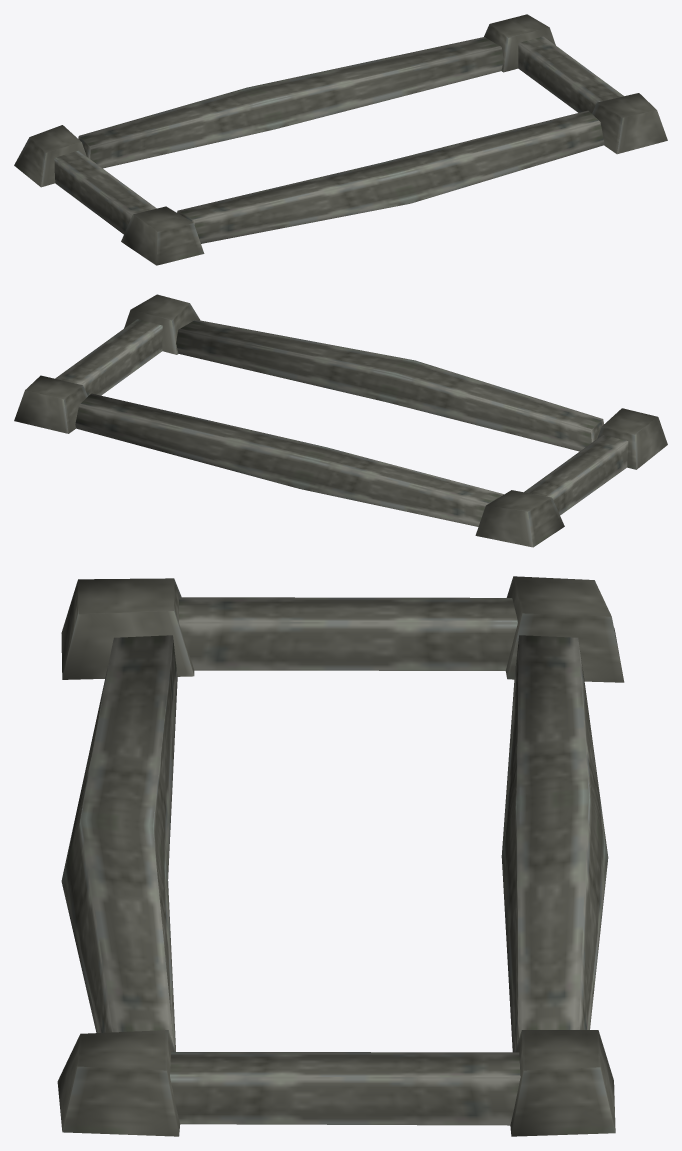
The model's file is duskwoodgraveframe.glb.
3 renders of one model, top to bottom at view 1: azimuth 30°, elevation 25°; view 2: azimuth 150°, elevation 25°; view 3: azimuth 270°, elevation 25°, orthographic. The views are drawn at different scales.
Size of the model in its own units: 5.22 by 0.2818 by 2.45.
1 material, 1 textured.
